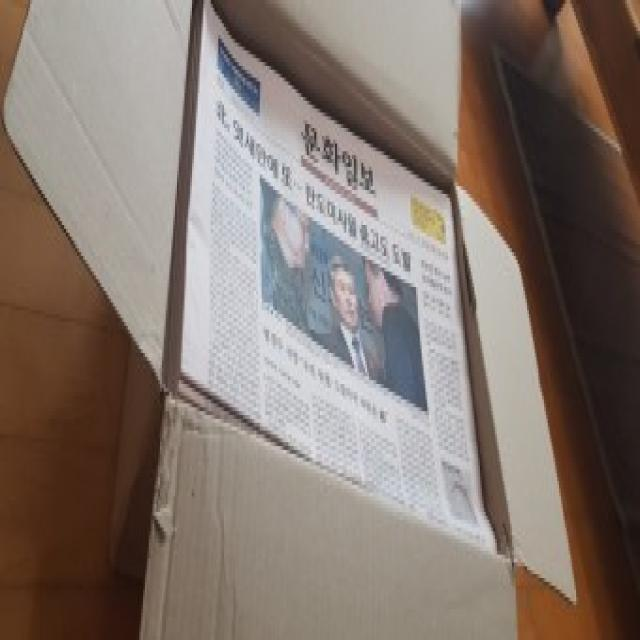Newspaper: (184, 0, 493, 538)
